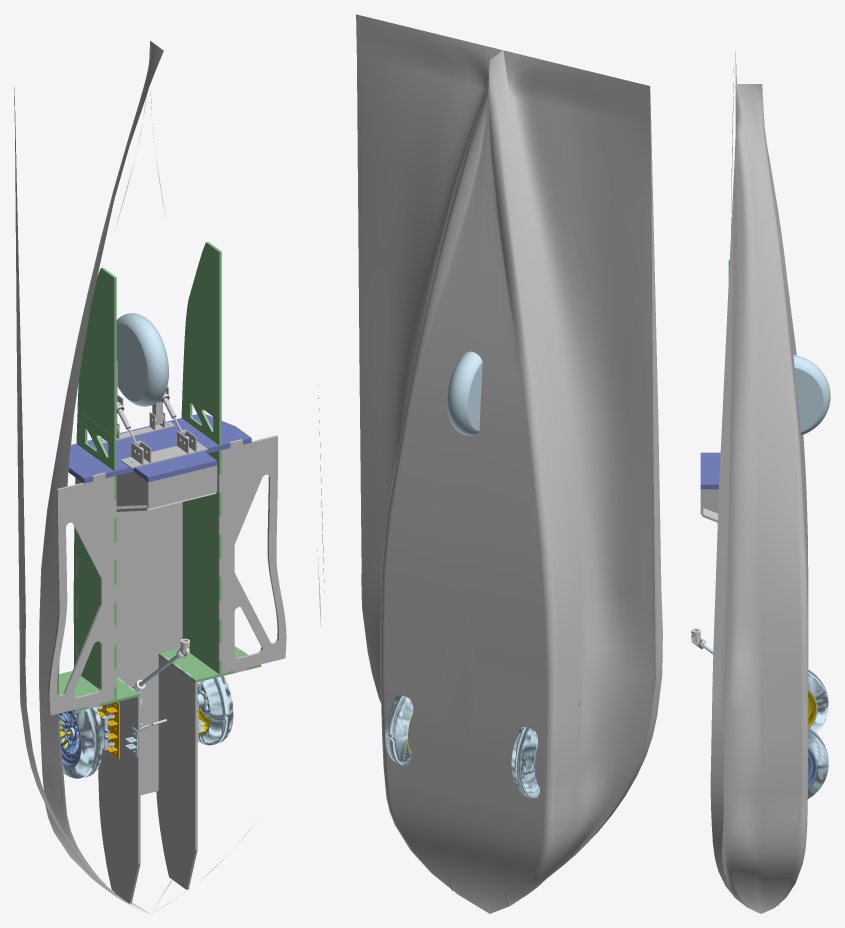
File: Full Assemby.glb
3 views of the same model, side by side, from view 1: azimuth 30°, elevation 25°; view 2: azimuth 150°, elevation 25°; view 3: azimuth 270°, elevation 25° (orthographic). The views are drawn at different scales.
Visible parts, largest first — view 1: Body1_node_3, Body1_node_61, Body1_node_65, Body1_node_70, Body1_node_69, Body1_node_75, Body1_node_64, Body1_node_68, Body1_node_66, Body1_node_84, Body1_node_63, Body1_node_18 (+5 smaller); view 2: Body1_node_3, Body1_node_84, Body1_node_18, Body1_node_22; view 3: Body1_node_3, Body1_node_84, Body1_node_22, Body1_node_18, Body1_node_66, Body1_node_72.
Part boxes in pixels (<box>): Body1_node_3: <box>14,41,324,913</box>; Body1_node_61: <box>76,478,182,795</box>; Body1_node_65: <box>181,242,221,674</box>; Body1_node_70: <box>73,267,116,699</box>; Body1_node_69: <box>48,472,116,715</box>; Body1_node_75: <box>218,435,286,673</box>; Body1_node_64: <box>156,656,197,889</box>; Body1_node_68: <box>98,678,140,903</box>; Body1_node_66: <box>68,414,251,480</box>; Body1_node_84: <box>116,313,168,406</box>; Body1_node_63: <box>147,465,217,508</box>; Body1_node_18: <box>63,707,104,778</box>; Body1_node_3: <box>356,14,662,913</box>; Body1_node_84: <box>447,351,482,435</box>; Body1_node_18: <box>511,727,539,798</box>; Body1_node_22: <box>385,695,413,765</box>; Body1_node_3: <box>710,52,808,913</box>; Body1_node_84: <box>793,355,830,435</box>; Body1_node_22: <box>808,727,828,798</box>; Body1_node_18: <box>808,670,828,733</box>; Body1_node_66: <box>700,452,720,486</box>; Body1_node_72: <box>703,489,718,513</box>.
Size of the model in its own units: 1.81 by 5 by 0.7603.
